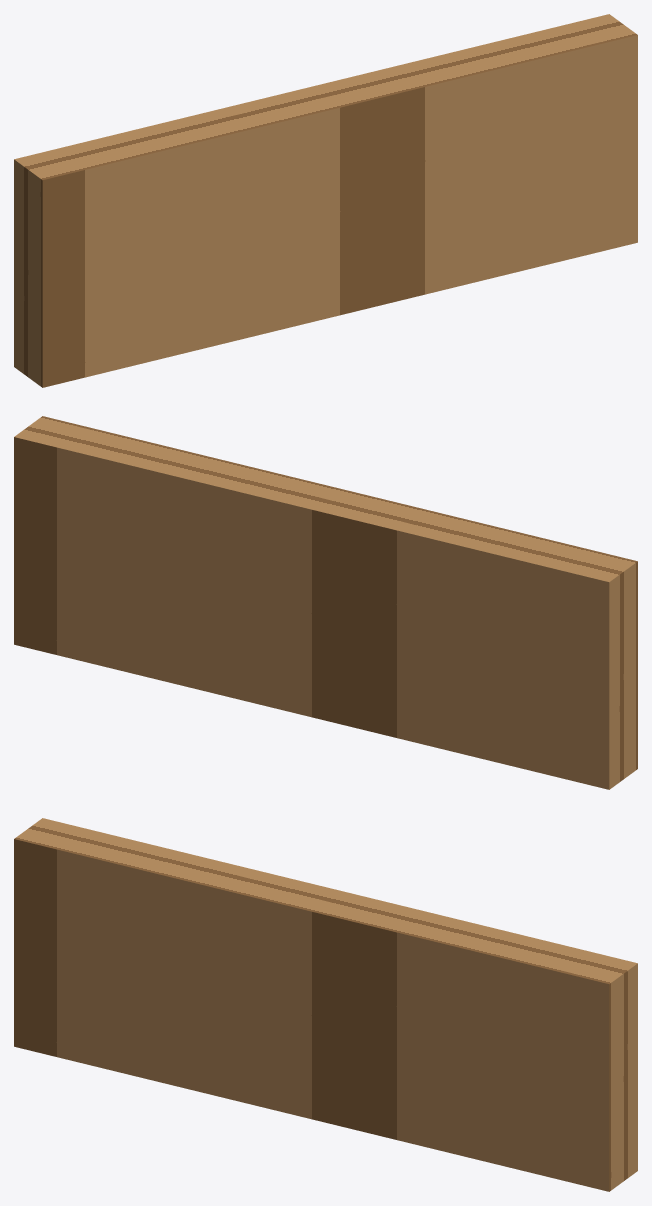
File: item_plank.glb
3 views of the same model, one above another, from view 1: azimuth 30°, elevation 25°; view 2: azimuth 150°, elevation 25°; view 3: azimuth 330°, elevation 25° (orthographic).
Parts seen in each view (by area): view 1: item_plank; view 2: item_plank; view 3: item_plank.
Part boxes in pixels (x1,y1,x2,y2): item_plank: (14, 14, 637, 387); item_plank: (14, 416, 637, 789); item_plank: (14, 818, 637, 1191).
Bounding box in the file's own units: 0.75 × 0.25 × 0.0625.
Materials: 1 (1 with a texture image).
